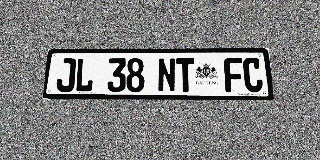3: (107, 58, 126, 92)
8: (126, 58, 145, 92)
C: (242, 58, 263, 92)
F: (224, 58, 244, 92)
J: (56, 58, 76, 92)
L: (74, 58, 94, 92)
N: (157, 58, 176, 92)
T: (176, 58, 195, 92)
